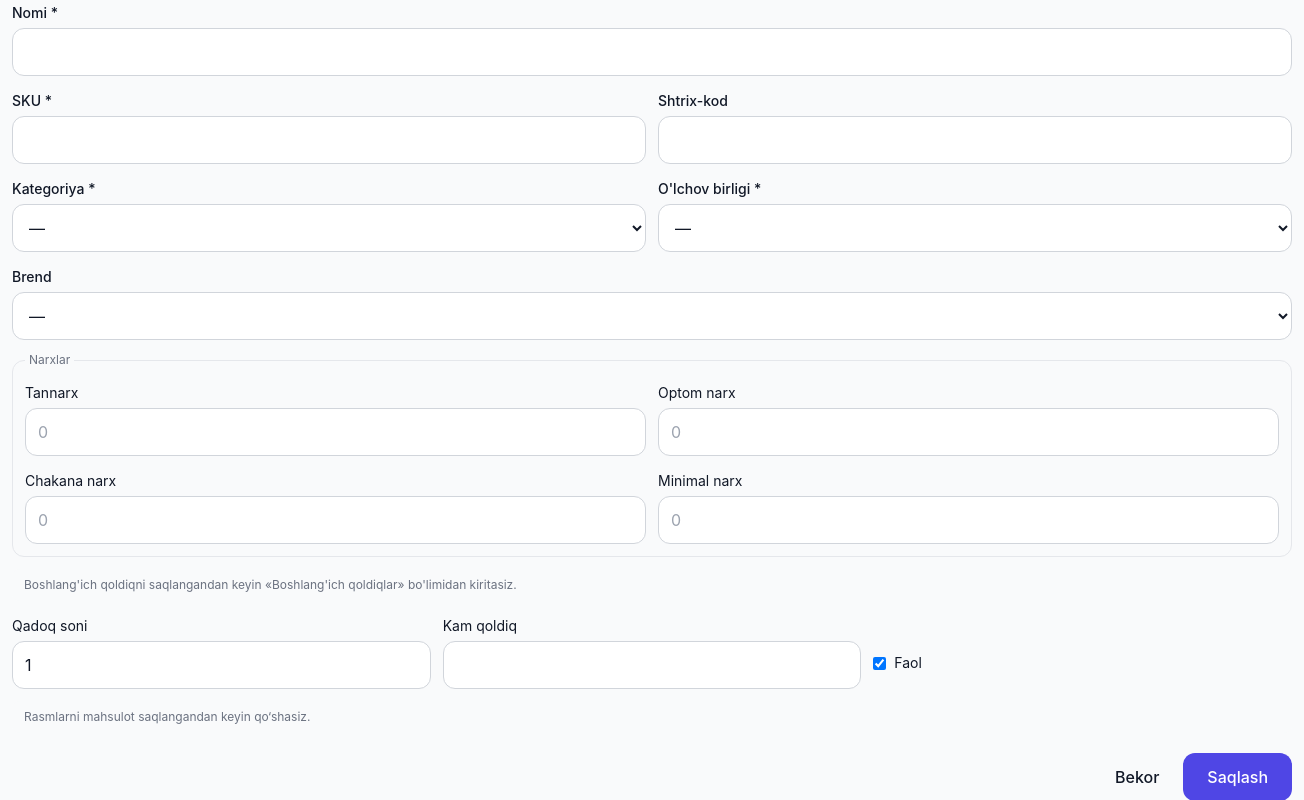
ProductForm › majburiy maydon bo‘sh bo‘lsa ko‘rinadigan xato chiqadi va so‘rov yuborilmaydi
Click the button "Saqlash". click: (1238, 777)
box: [1183,753,1292,799]
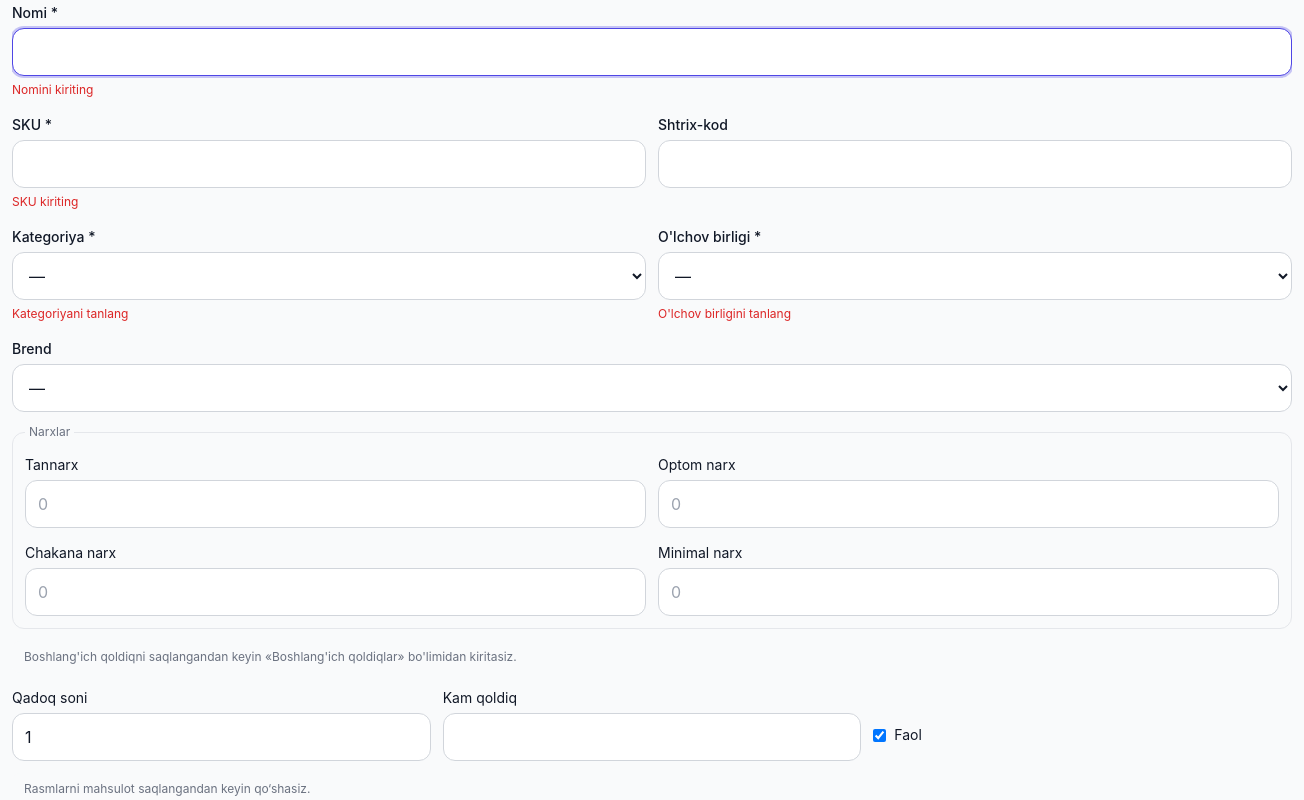
Expected: the text "O'lchov birligini tanlang" is shown, [658,306,791,321]
Expected: the text "Kategoriyani tanlang" is shown, [12,306,128,321]
